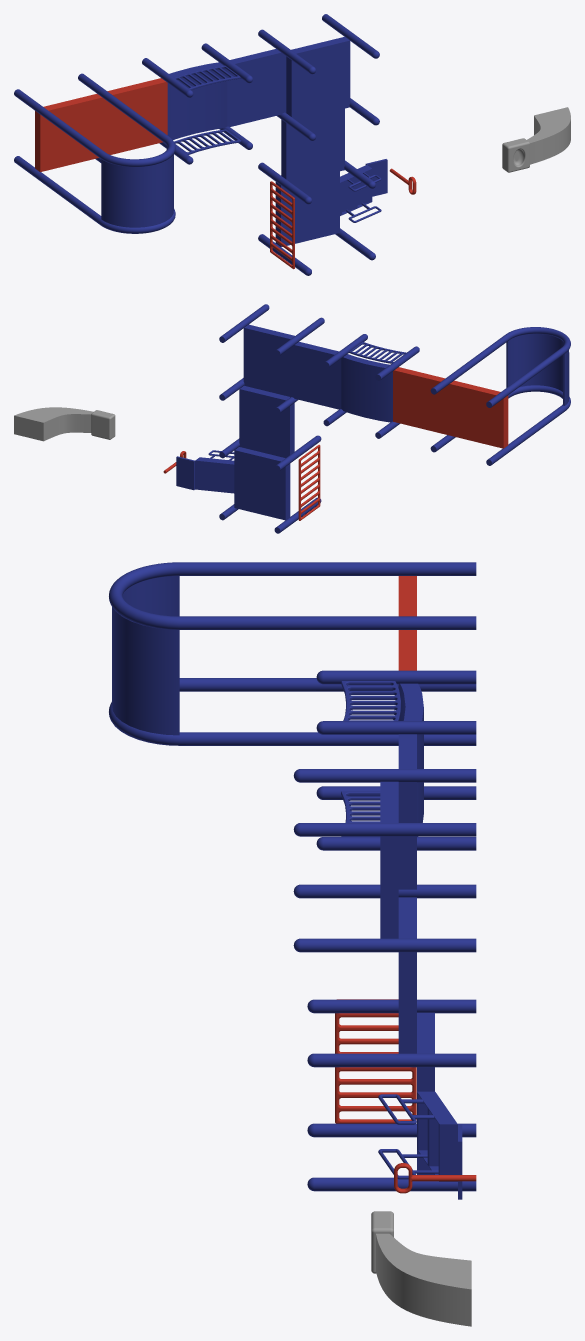
File: 122_playground.fbx
3 renders of one model, top to bottom at view 1: azimuth 30°, elevation 25°; view 2: azimuth 150°, elevation 25°; view 3: azimuth 270°, elevation 25°, orthographic. The views are drawn at different scales.
Visible parts, largest first — view 1: Body1, Body7, Body5, Body11, Body3; view 2: Body1, Body5, Body7, Body11, Body3; view 3: Body1, Body7, Body11, Body3, Body5.
Boxes of the visible parts, left/top/right/bottom form: Body1: left=142, top=14, right=387, bottom=275; Body7: left=14, top=73, right=175, bottom=233; Body5: left=35, top=78, right=167, bottom=172; Body11: left=502, top=107, right=570, bottom=172; Body3: left=270, top=181, right=294, bottom=269; Body1: left=176, top=304, right=419, bottom=533; Body5: left=393, top=367, right=508, bottom=448; Body7: left=430, top=327, right=570, bottom=465; Body11: left=14, top=407, right=115, bottom=441; Body3: left=298, top=444, right=320, bottom=520; Body1: left=293, top=670, right=476, bottom=1199; Body7: left=109, top=562, right=476, bottom=745; Body11: left=371, top=1211, right=471, bottom=1326; Body3: left=335, top=999, right=416, bottom=1123; Body5: left=398, top=576, right=416, bottom=670.
Bounding box in the file's own units: 1213 × 444 × 403.
